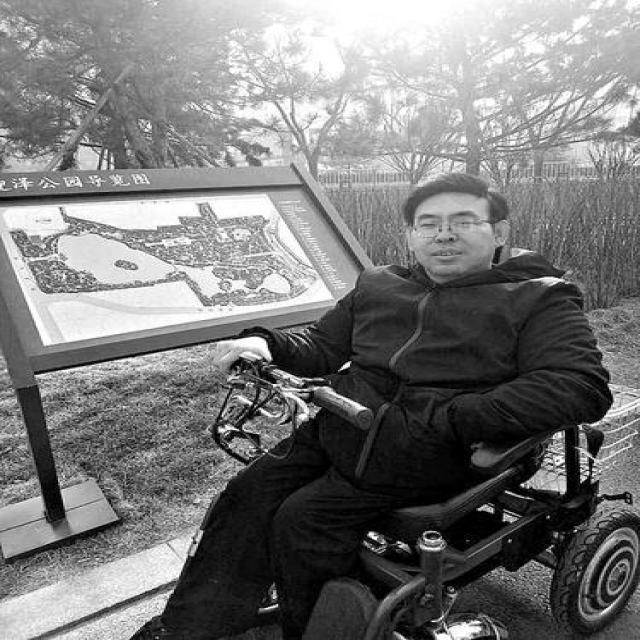wheelchairs: (187, 339, 640, 640)
